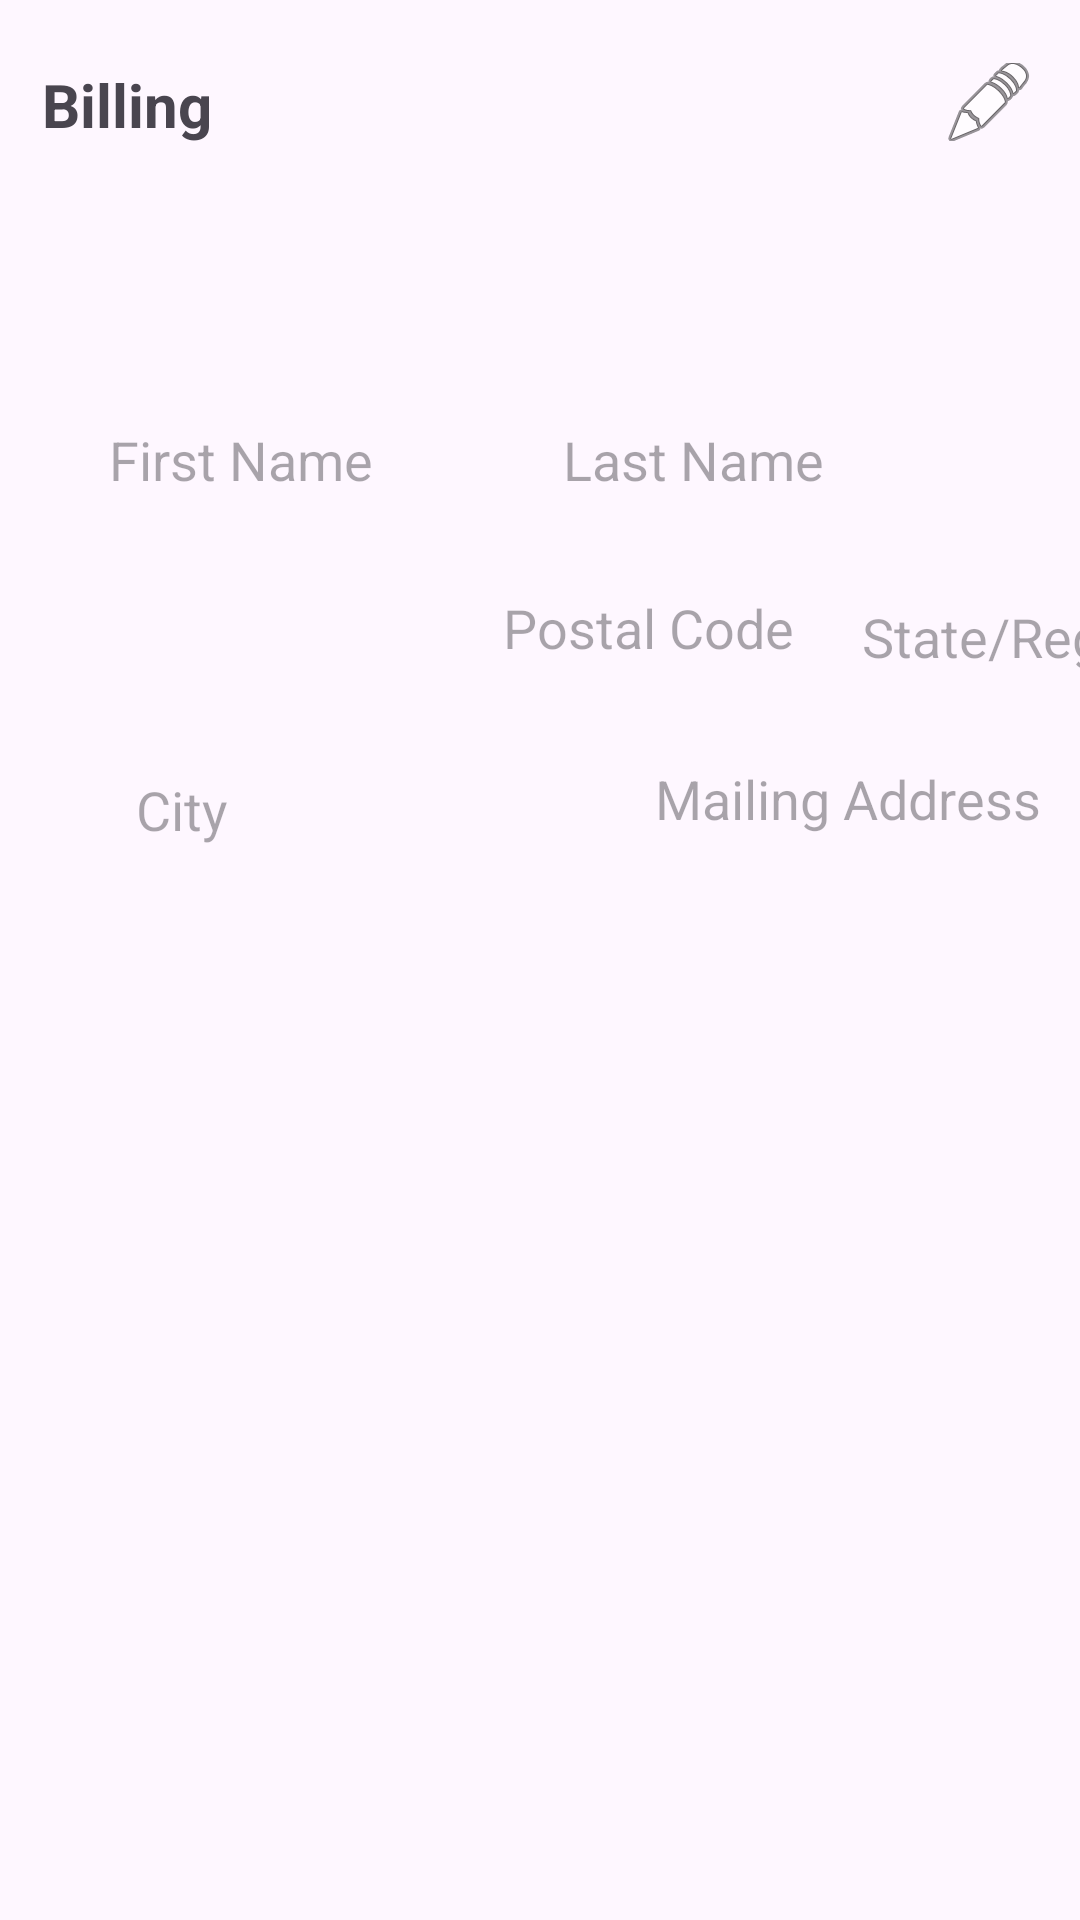

Icon bounding boxes for this 1080×1920 phone screenshot, format (x1, y1, x2, y2):
edit: (948, 63, 1029, 141)
